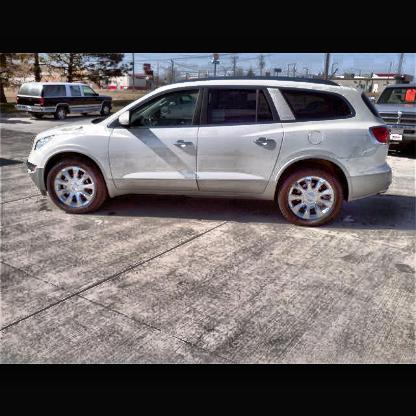Buick Enclave SUV 2012: (28, 75, 395, 227)
